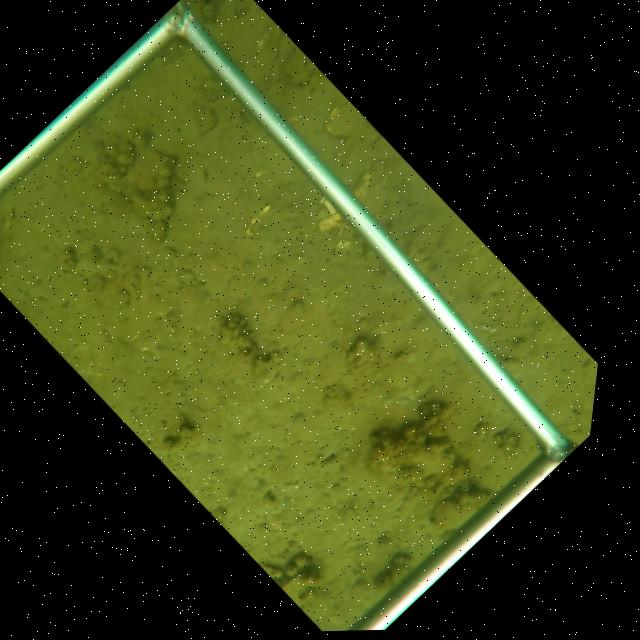Oyster-Indeterminate: (432, 486, 494, 533)
